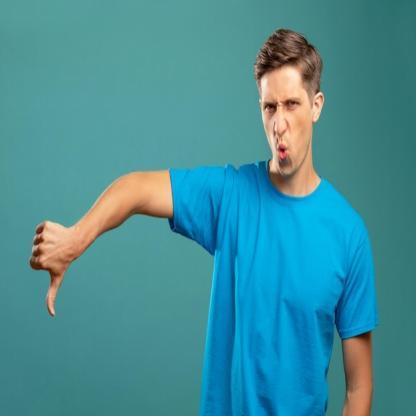thumb_down: (27, 218, 74, 316)
